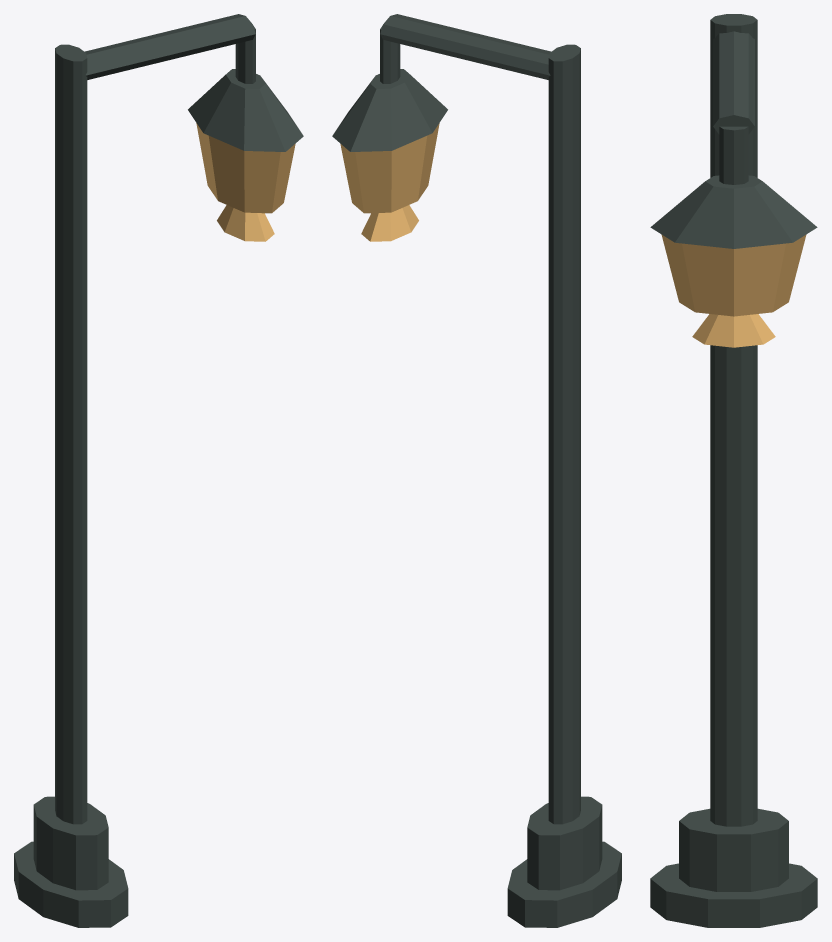
The model's file is lane-lamp-short-arm-visible-low.glb.
The picture shows the model from 3 angles, left to right: view 1: azimuth 30°, elevation 25°; view 2: azimuth 150°, elevation 25°; view 3: azimuth 270°, elevation 25°; orthographic projection. The views are drawn at different scales.
Parts seen in each view (by area): view 1: lane-lamp-short-arm; view 2: lane-lamp-short-arm; view 3: lane-lamp-short-arm.
Boxes of the visible parts, box(x1,y1,x2,y2) form: lane-lamp-short-arm: box(14, 14, 303, 927); lane-lamp-short-arm: box(332, 14, 621, 927); lane-lamp-short-arm: box(650, 14, 817, 927).
Size of the model in its own units: 1.07 by 3.36 by 0.5742.
